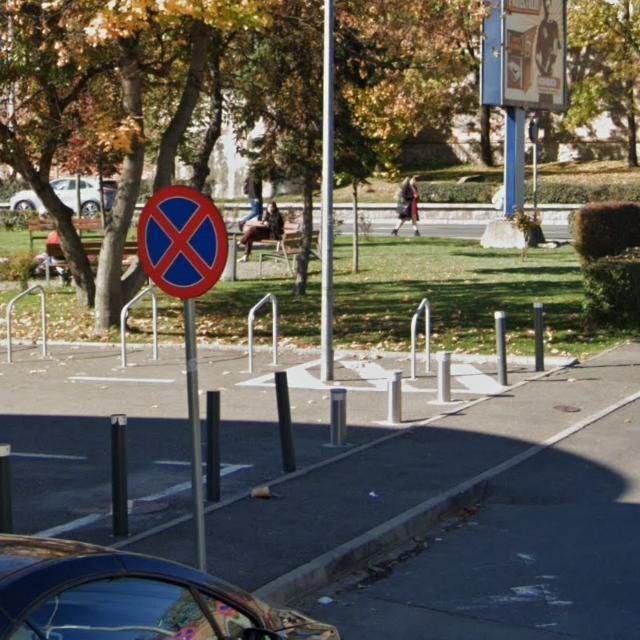forb_waiting: (136, 185, 229, 301)
